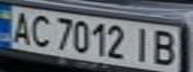0: (69, 18, 90, 54)
1: (87, 20, 109, 57)
2: (106, 21, 130, 61)
7: (51, 15, 75, 51)
A: (6, 9, 36, 45)
B: (148, 27, 181, 68)
C: (27, 11, 54, 47)
I: (127, 25, 157, 64)
